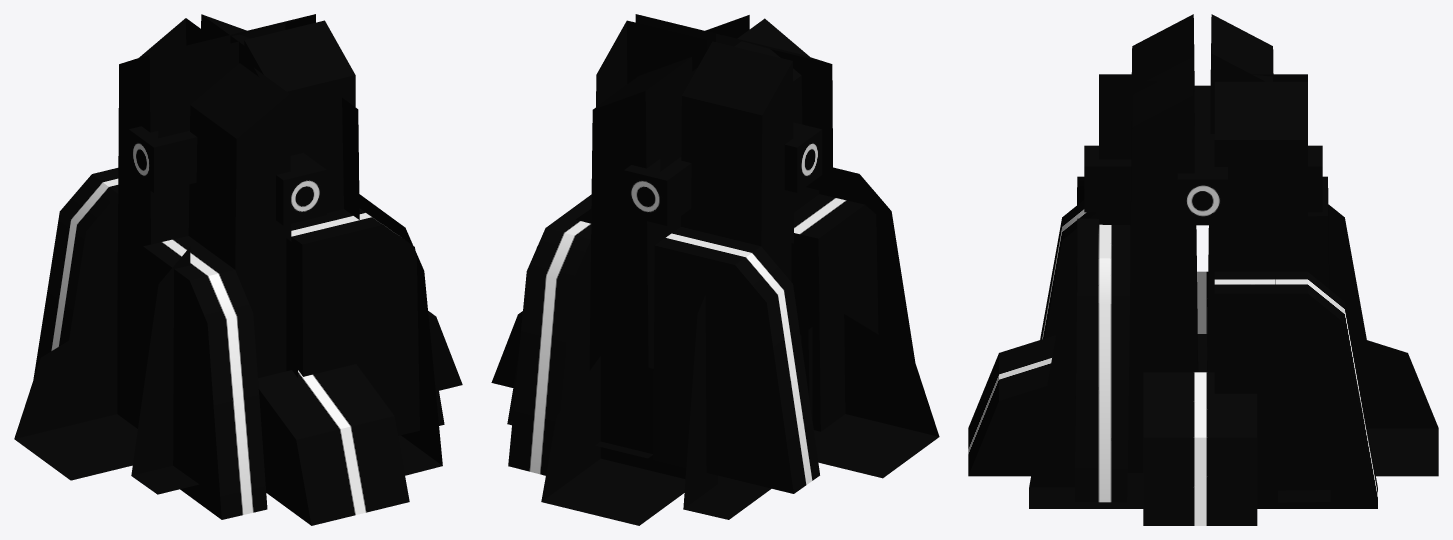
Rendered from obstakel5.fbx.
The picture shows the model from 3 angles, left to right: view 1: azimuth 30°, elevation 25°; view 2: azimuth 150°, elevation 25°; view 3: azimuth 270°, elevation 25°; orthographic projection.
Parts seen in each view (by area): view 1: Cube.3; view 2: Cube.3; view 3: Cube.3.
Boxes of the visible parts, x1=… form: Cube.3: x1=14, y1=14, x2=462, y2=525; Cube.3: x1=491, y1=14, x2=939, y2=525; Cube.3: x1=968, y1=14, x2=1438, y2=525.
Size of the model in its own units: 799 by 769 by 827.
1 material, 1 textured.
